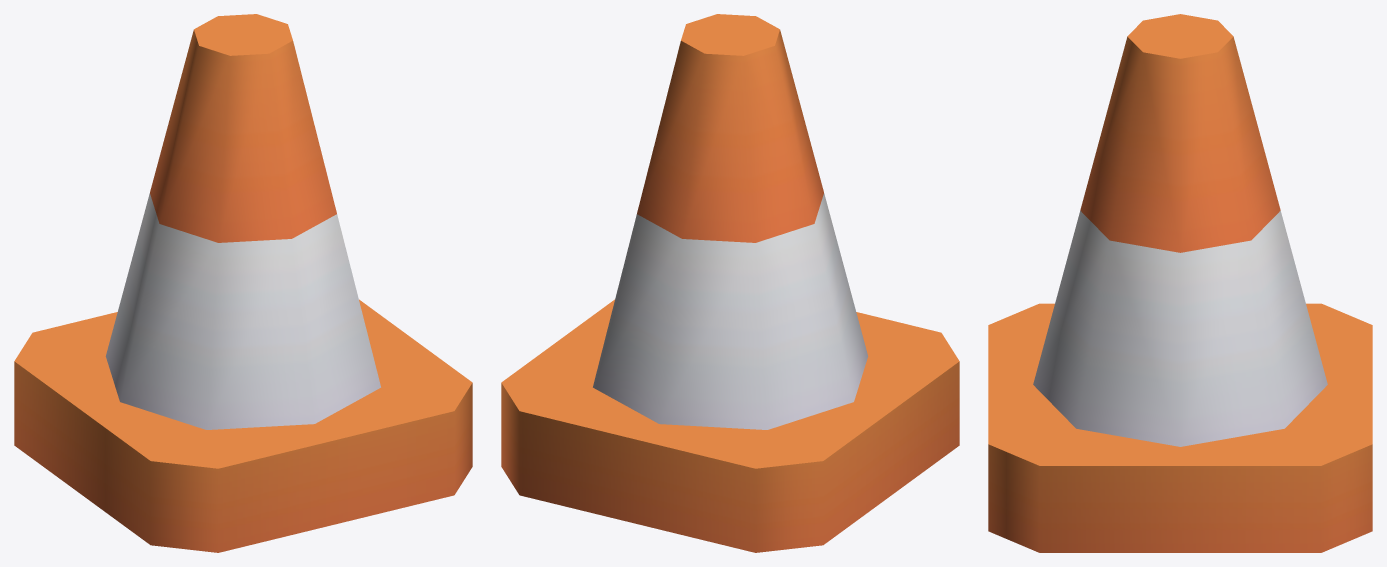
File: construction-cone.glb
The picture shows the model from 3 angles, left to right: view 1: azimuth 30°, elevation 25°; view 2: azimuth 150°, elevation 25°; view 3: azimuth 270°, elevation 25°; orthographic projection. The views are drawn at different scales.
Parts seen in each view (by area): view 1: construction-cone; view 2: construction-cone; view 3: construction-cone.
Part boxes in pixels (<box>): construction-cone: <box>14,14,472,552</box>; construction-cone: <box>501,14,959,552</box>; construction-cone: <box>988,14,1372,552</box>.
Size of the model in its own units: 0.075 by 0.0938 by 0.075.
Materials: 1 (1 with a texture image).
